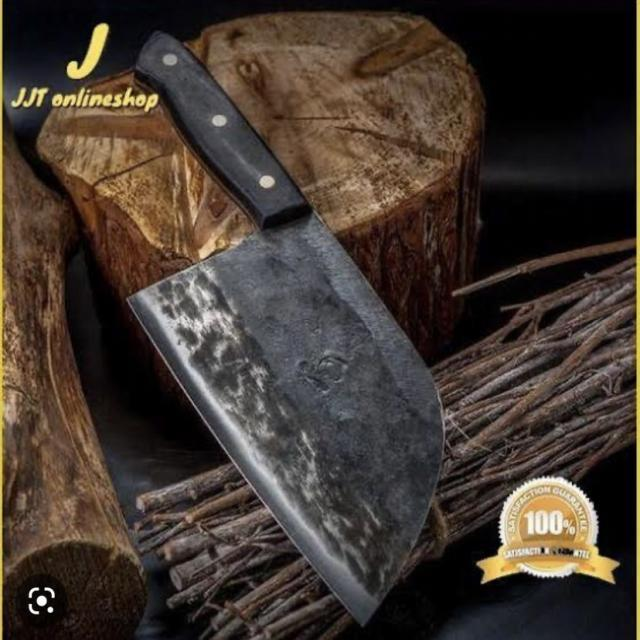Knife: (116, 24, 452, 632)
